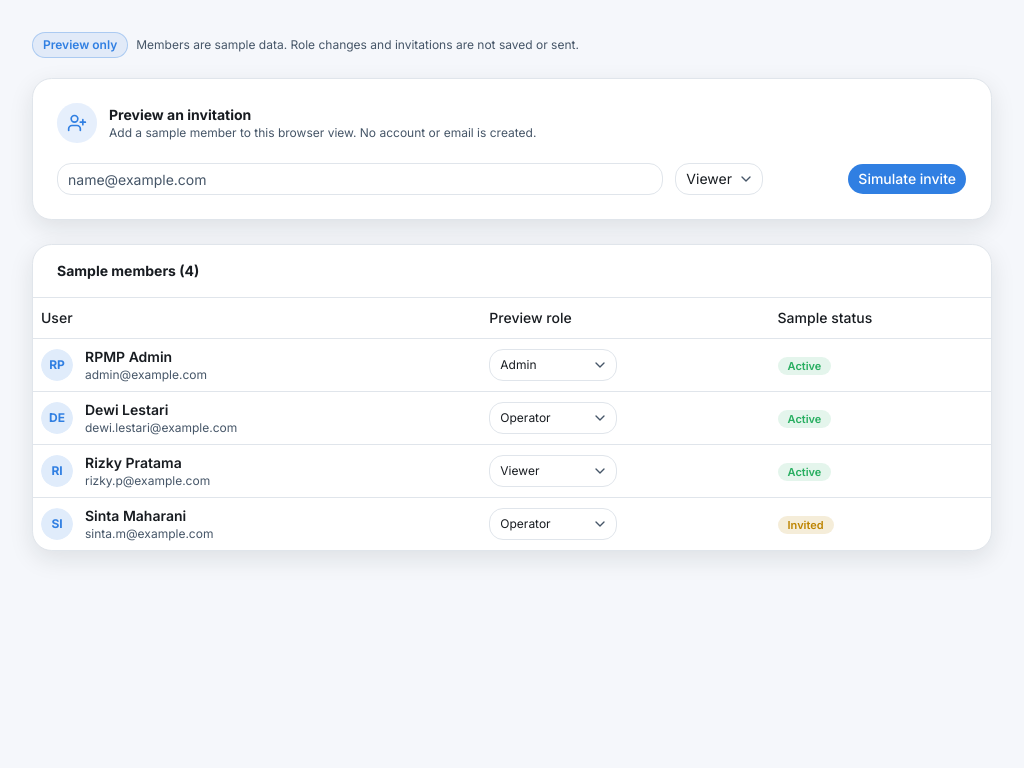
it: UserManagementPreview › adds a preview member without creating an account or sending email
expect the text "Preview only" is shown: met, box [32, 32, 128, 58]
In the field named "Preview member email": (360, 179) [57, 163, 663, 195], type "preview.user@example.com"
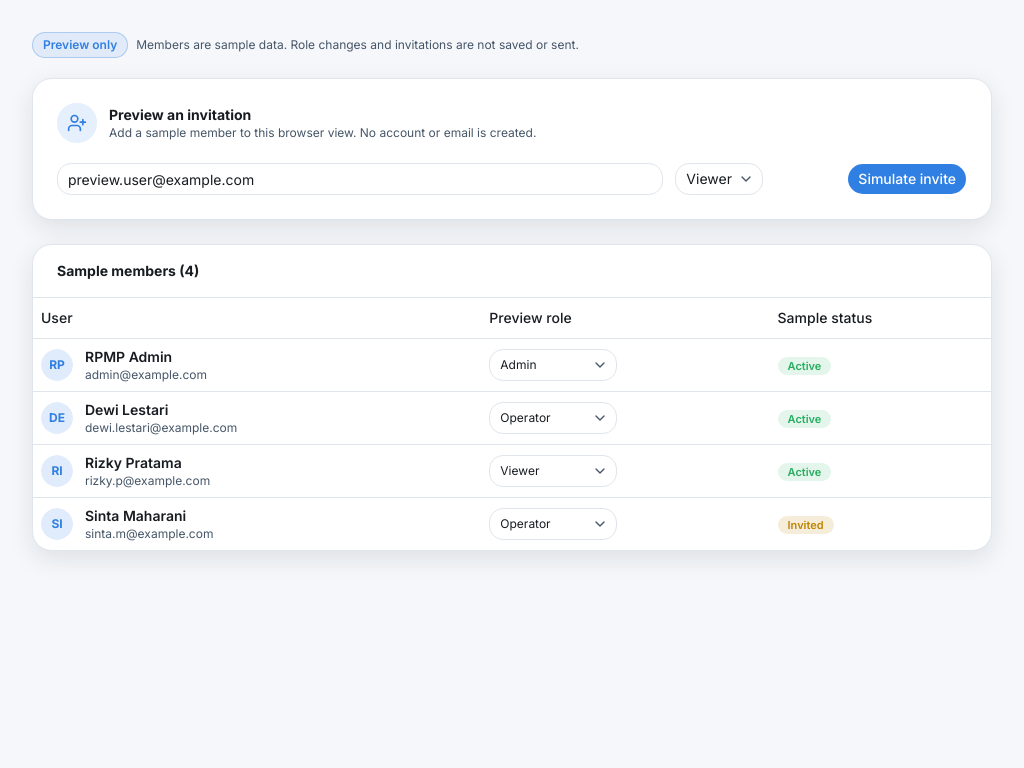
Click the button "Simulate invite": (907, 179) [847, 163, 967, 195]
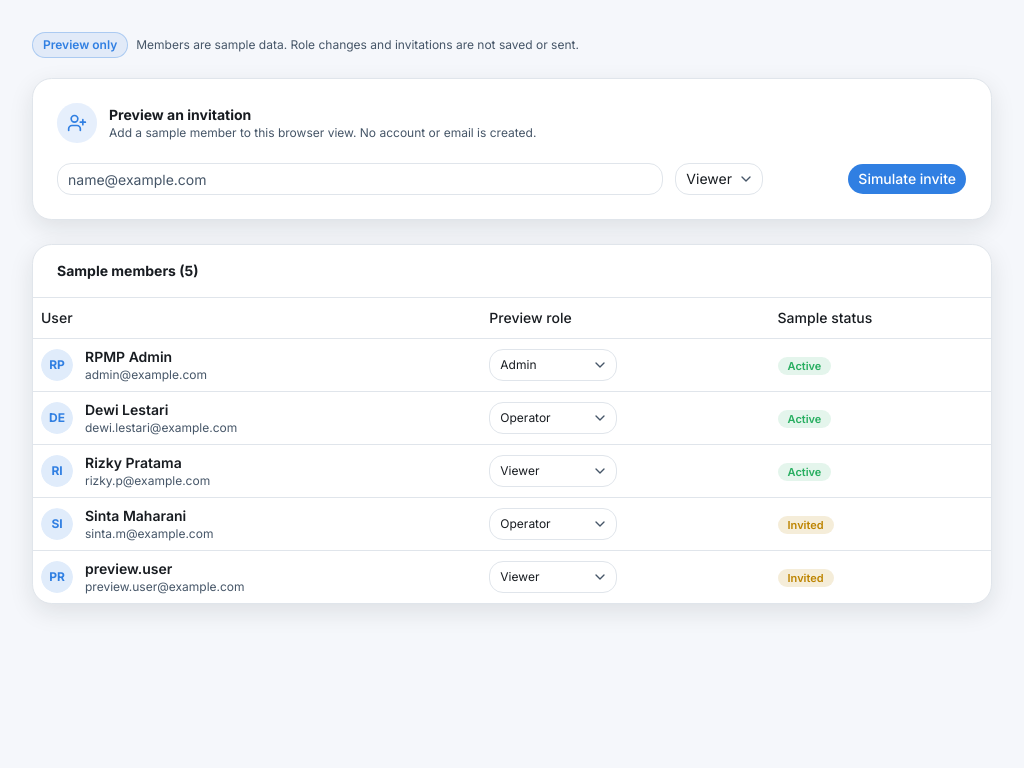
expect the heading "Sample members (5)" is shown: met, box [57, 262, 198, 279]
expect the text "preview.user@example.com" is shown: met, box [85, 578, 245, 594]
